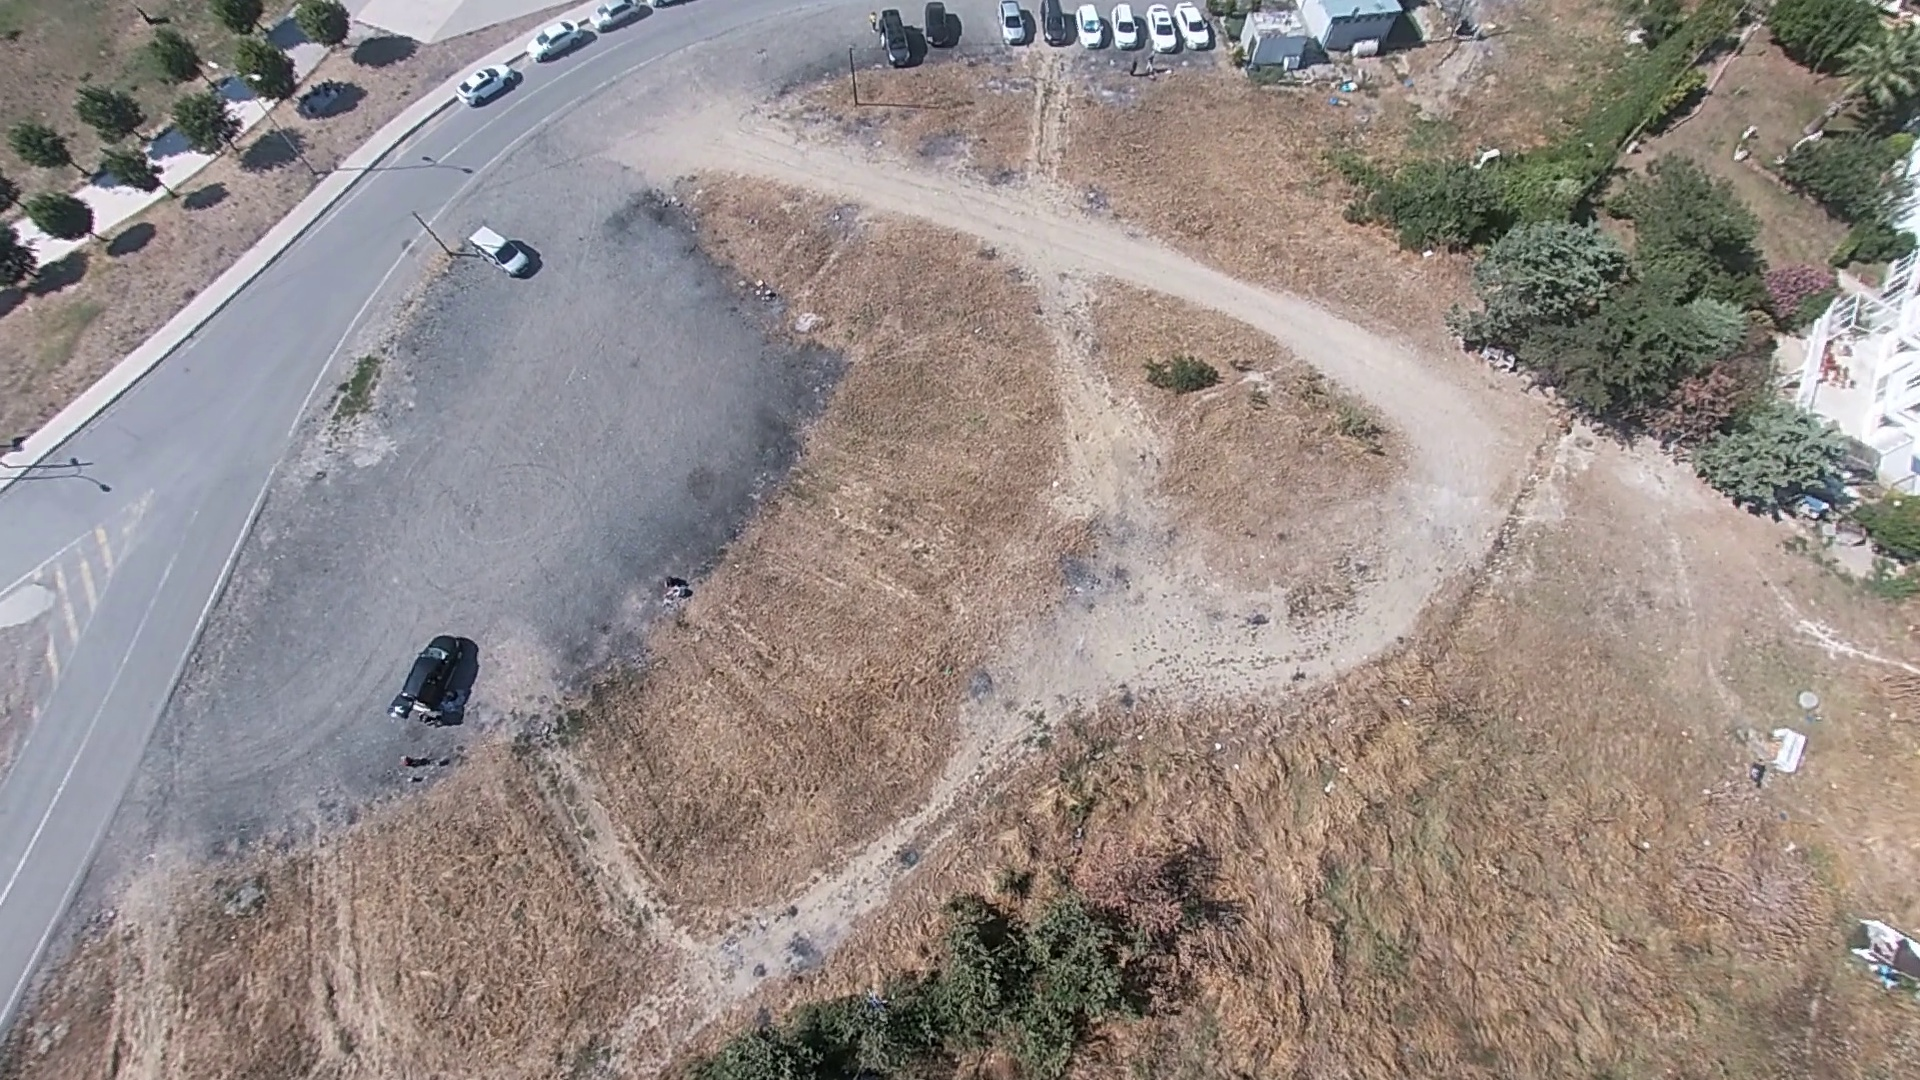arac: (389, 632, 473, 728), (471, 222, 541, 276), (458, 61, 521, 109)
insan: (659, 577, 696, 606)
